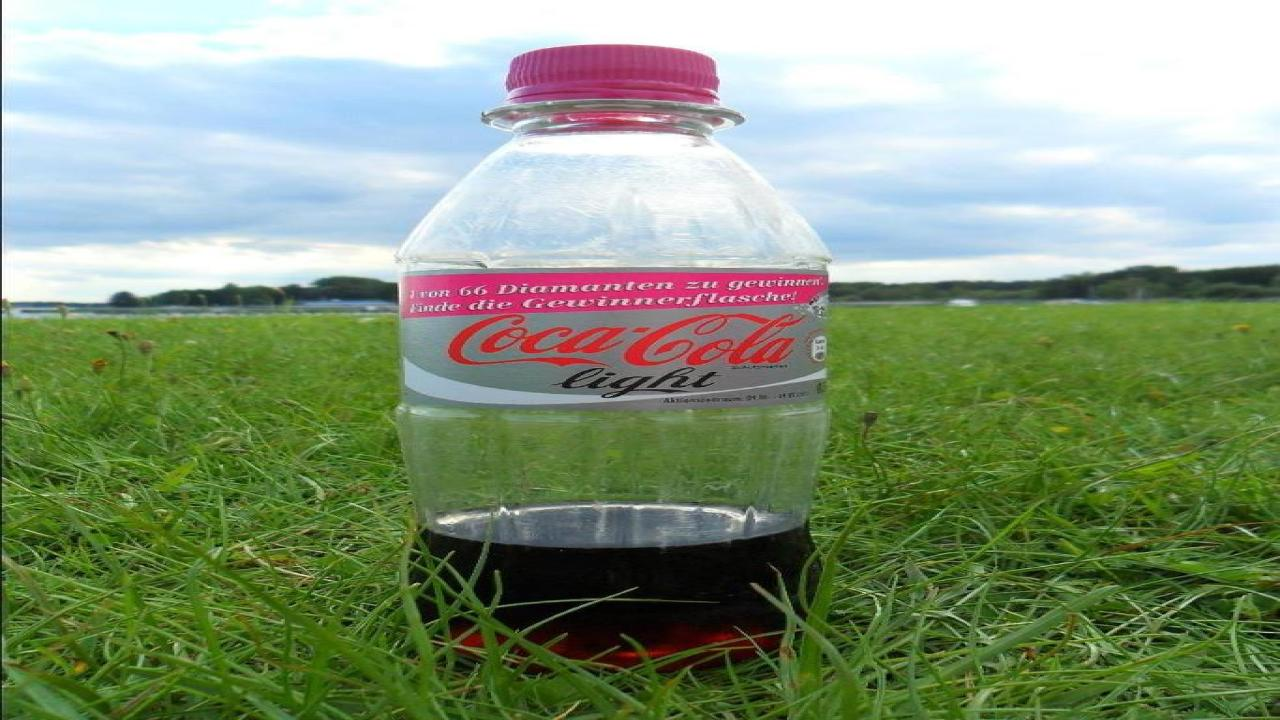bottle_cap: (512, 44, 720, 98)
